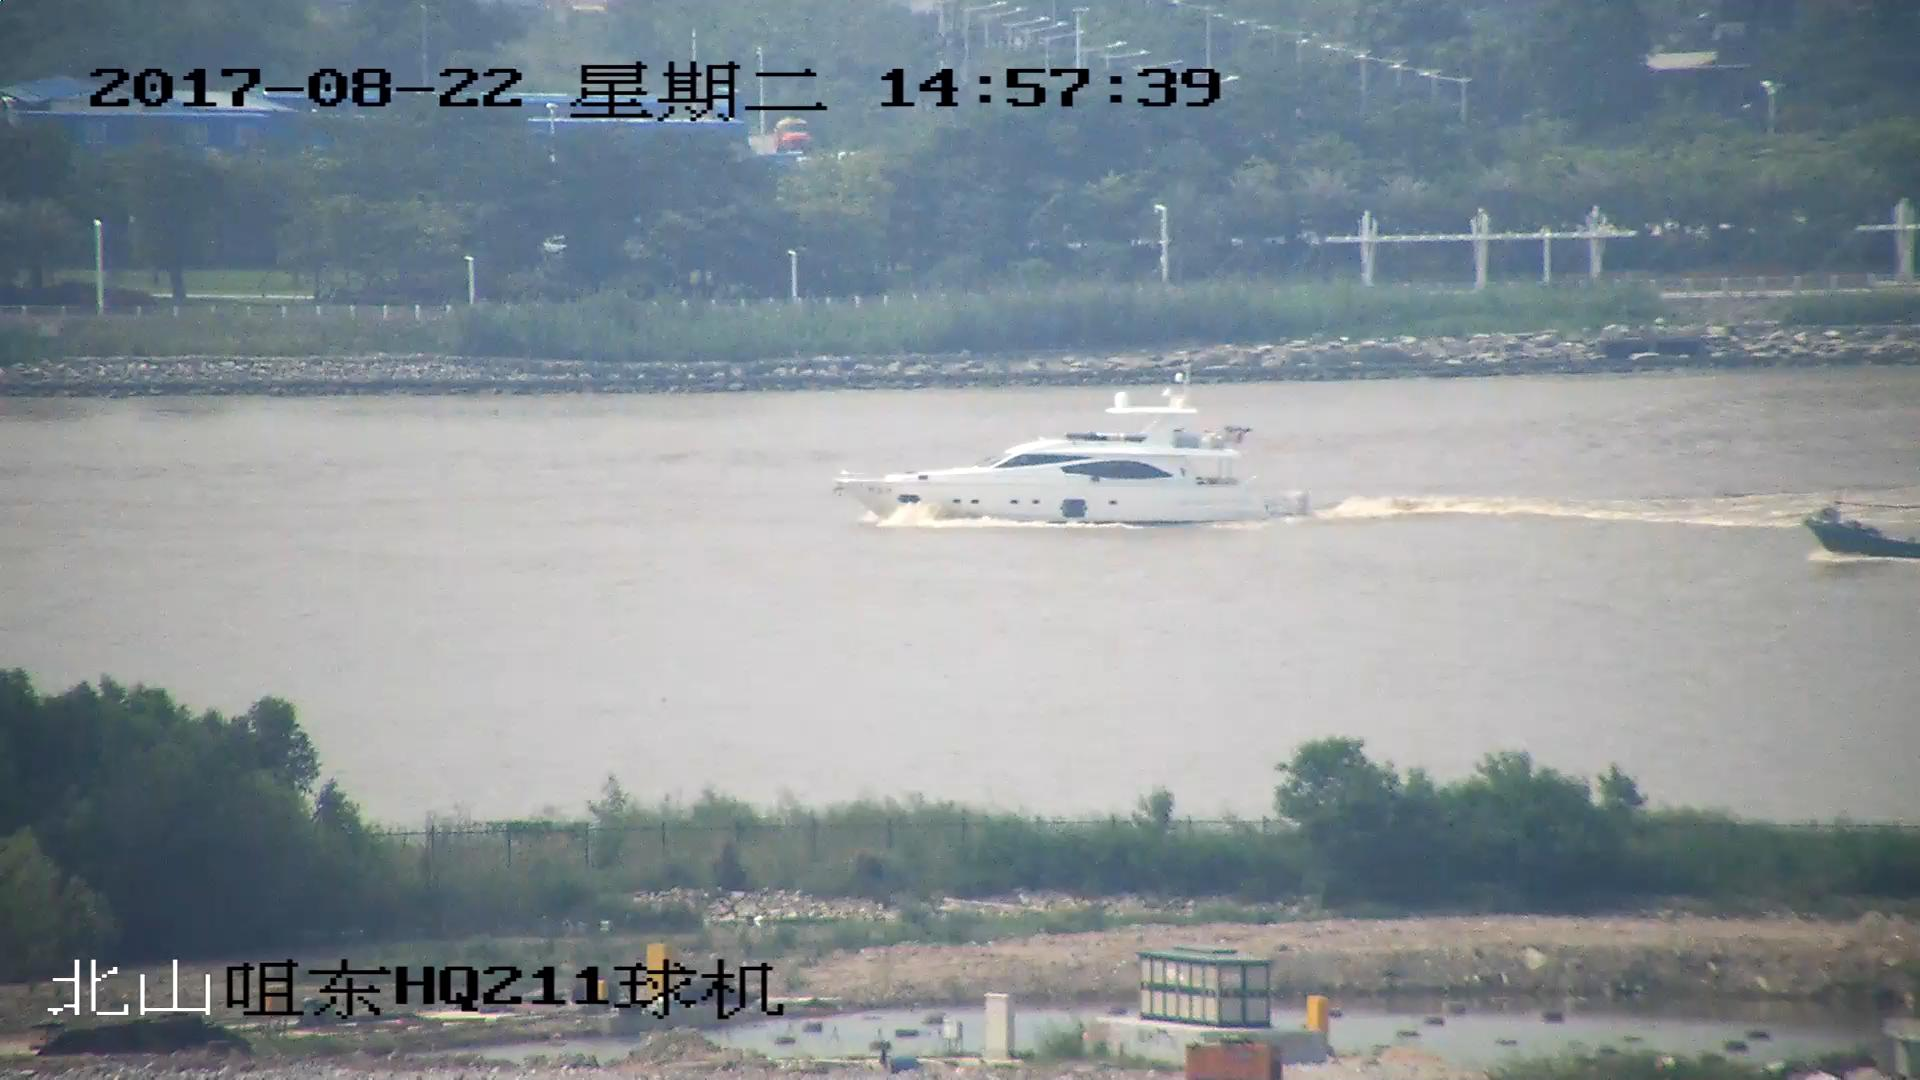passenger ship: (830, 377, 1298, 523)
